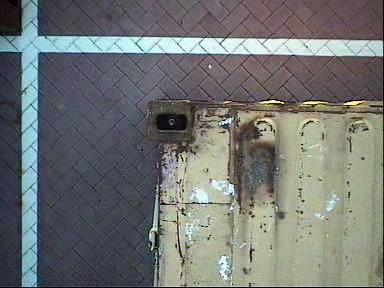groundmarker_2: (82, 173, 215, 243)
